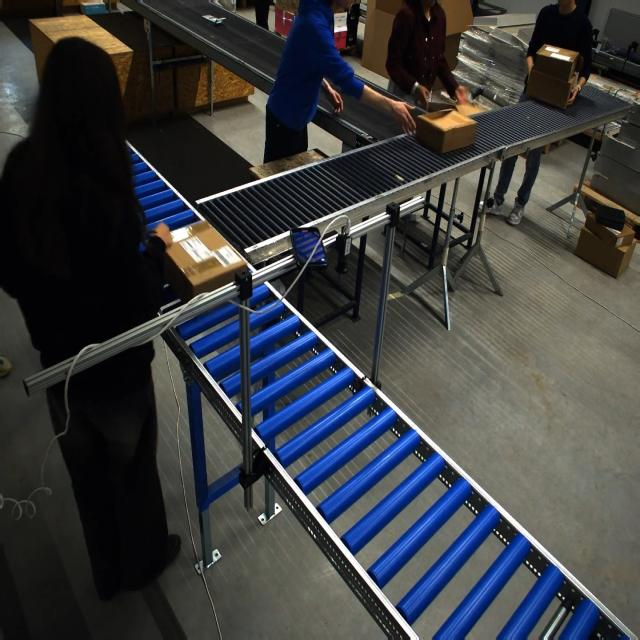box: (161, 221, 247, 303), (415, 107, 477, 154), (452, 99, 490, 118)
product: (201, 14, 226, 26)
